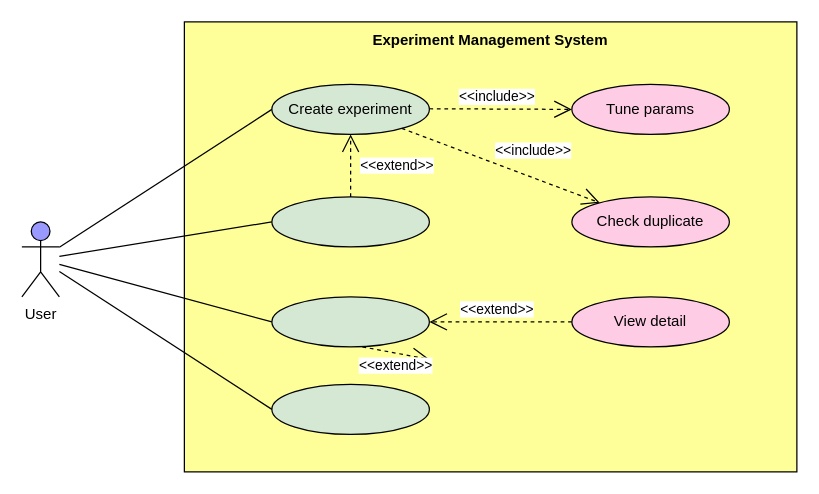
Some shapes in this 819 by 494 pixel diagram are drawn without their labels. The box of each missing label's shape, as (x1, y1, x2, y2) in pixels:
List/Sort experiment: (271, 296, 429, 347)
Start experiment: (271, 196, 429, 247)
Statistics: (271, 383, 429, 434)
